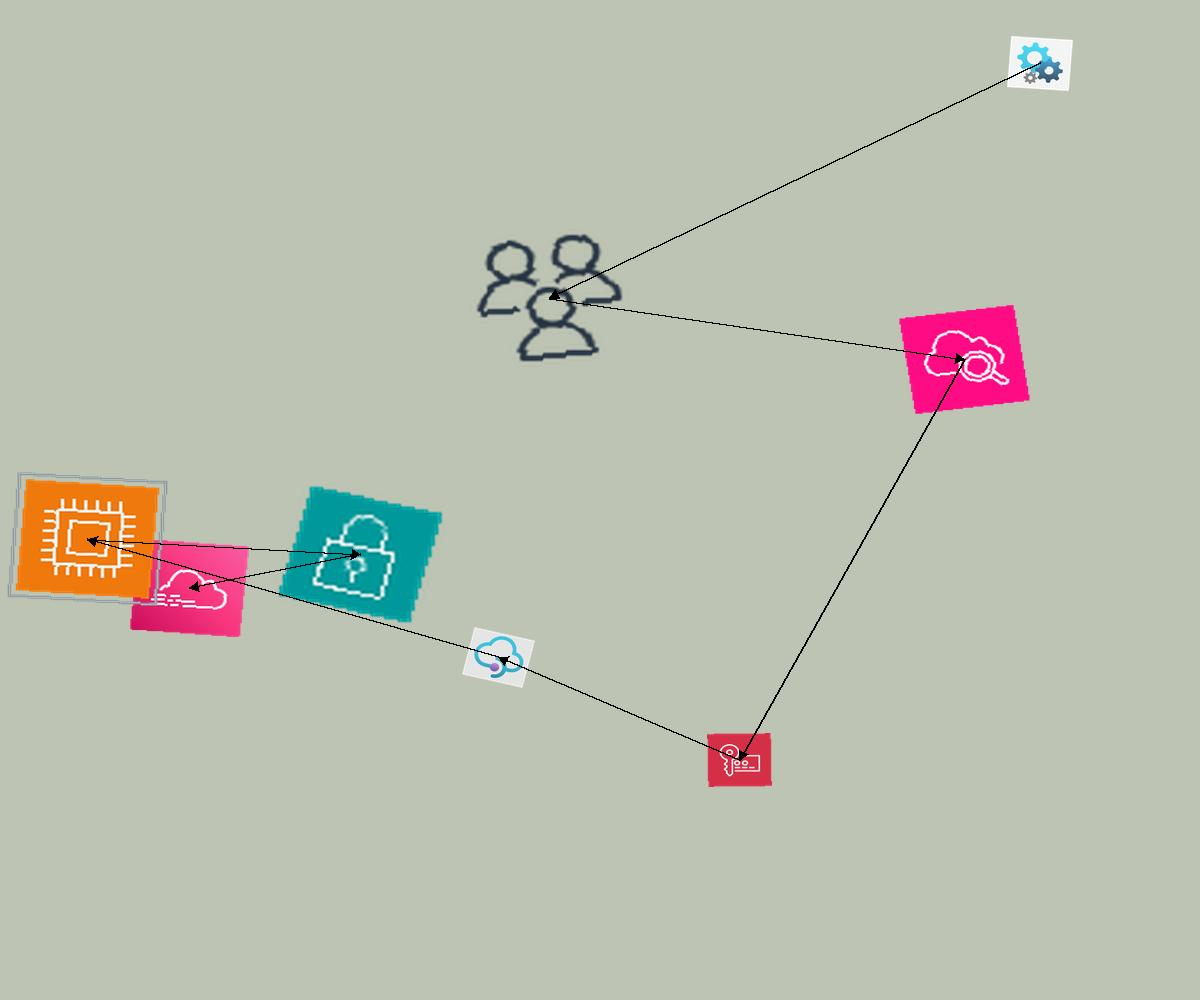AWS-Category_Compute: (6, 471, 169, 607)
AWS-CloudTrail: (129, 538, 250, 638)
AWS-CloudWatch: (898, 304, 1031, 415)
AWS-Key-Management-Service: (707, 733, 772, 787)
AWS-Private-subnet: (276, 484, 445, 625)
AWS-Res_Users: (461, 224, 638, 372)
Azure_api: (1007, 36, 1073, 91)
Azure_api_gateway: (462, 627, 535, 688)
